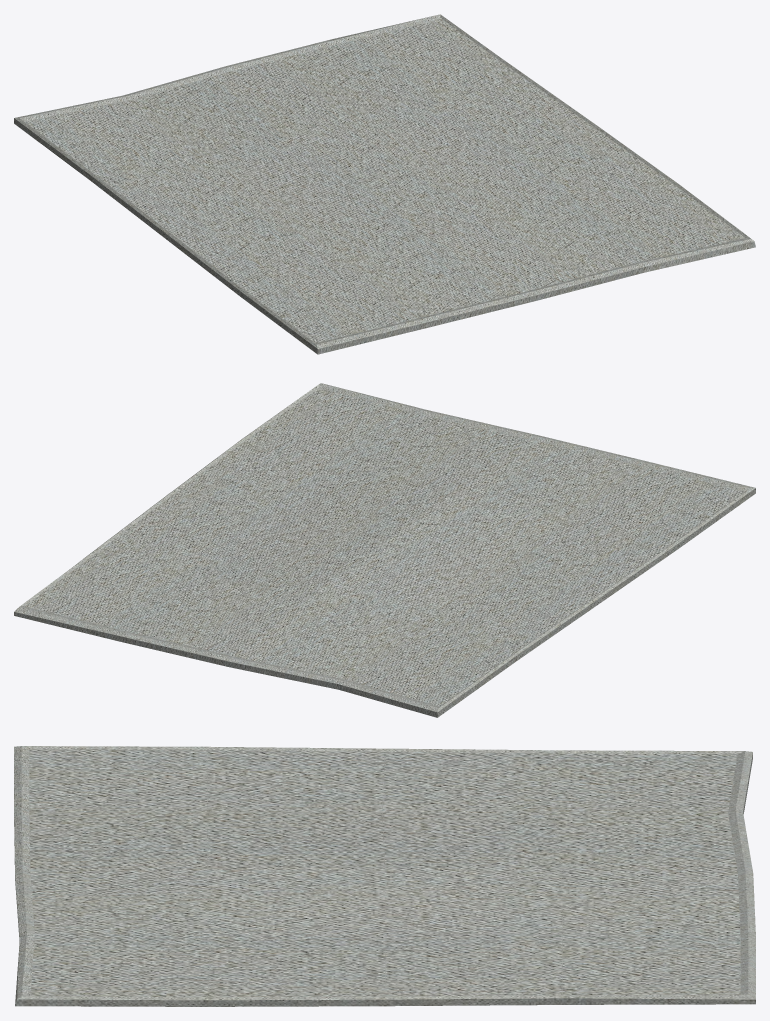
The model's file is carpet.glb.
The picture shows the model from 3 angles, top to bottom: view 1: azimuth 30°, elevation 25°; view 2: azimuth 150°, elevation 25°; view 3: azimuth 270°, elevation 25°; orthographic projection. The views are drawn at different scales.
Visible parts, largest first — view 1: Carpet1_low; view 2: Carpet1_low; view 3: Carpet1_low.
Part boxes in pixels (<box>): Carpet1_low: <box>14,14,755,354</box>; Carpet1_low: <box>14,383,755,717</box>; Carpet1_low: <box>14,746,755,1006</box>.
Bounding box in the file's own units: 97.94 × 2.25 × 121.
Materials: 1 (1 with a texture image).
